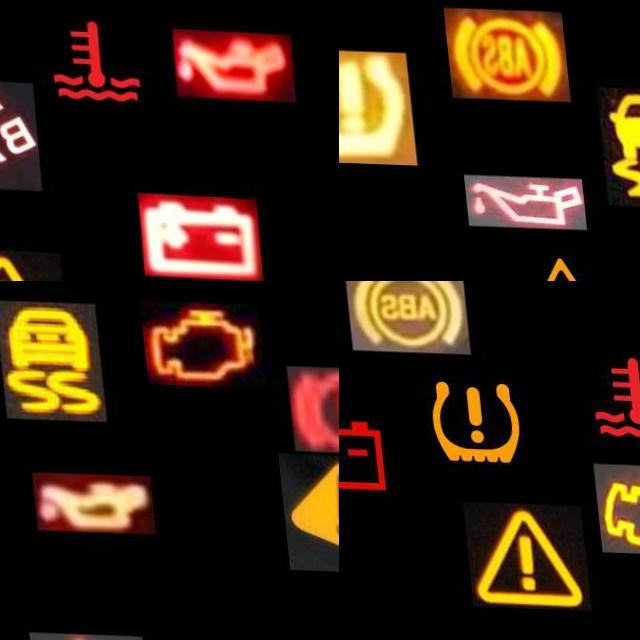Central Warning lamp: (454, 500, 580, 608), (270, 449, 339, 570), (493, 236, 620, 281)
Engine cooling system: (28, 0, 158, 119), (565, 333, 640, 454)
